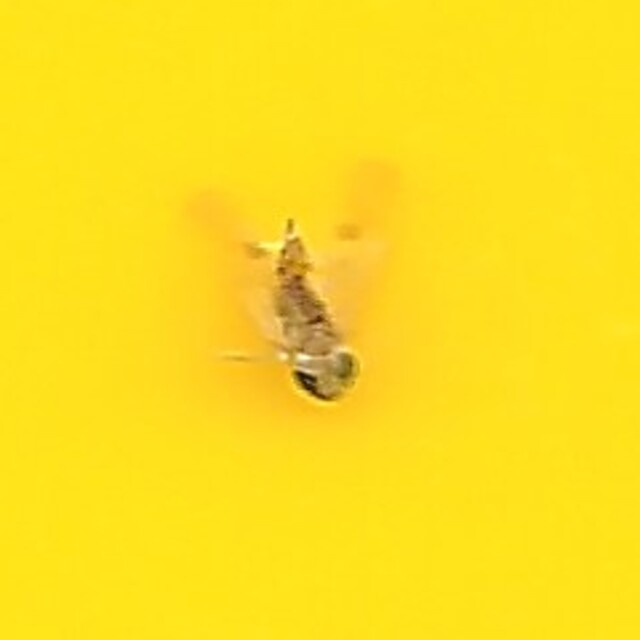Hemiptera: (267, 219, 373, 421)
